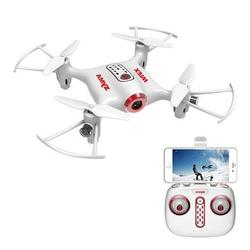drone: (12, 25, 235, 160)
